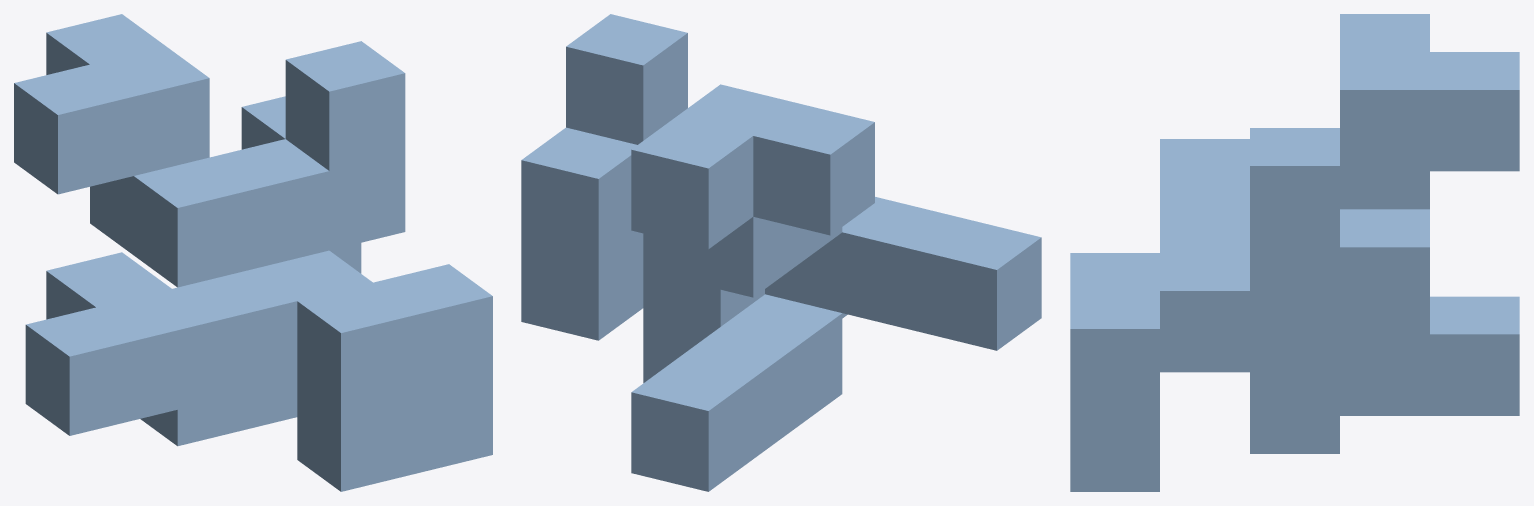
3 renders of one model, left to right at view 1: azimuth 30°, elevation 25°; view 2: azimuth 150°, elevation 25°; view 3: azimuth 270°, elevation 25°, orthographic. The views are drawn at different scales.
Parts seen in each view (by area): view 1: _changes (2).006; view 2: _changes (2).006; view 3: _changes (2).006.
Part boxes in pixels (x1,y1,x2,y2): _changes (2).006: (14, 14, 492, 491); _changes (2).006: (521, 14, 1041, 491); _changes (2).006: (1070, 14, 1519, 491).
Bounding box in the file's own units: 0.1999 × 0.1599 × 0.1999.
